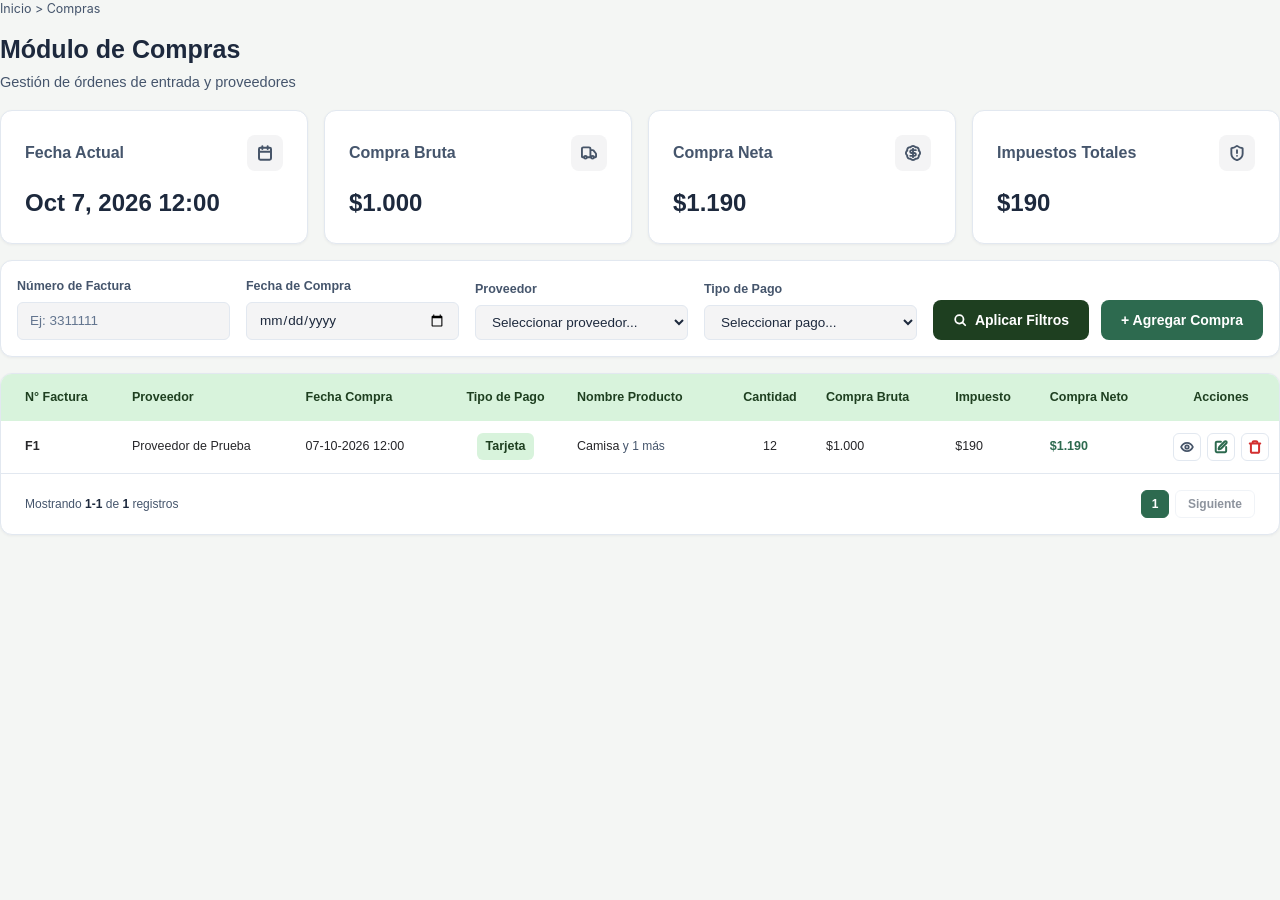
Scenario: abre el detalle de la compra con precio y subtotal por linea
Step 1. Click the button titled "Ver detalle" → click(1187, 447), box [1173,433,1201,461]
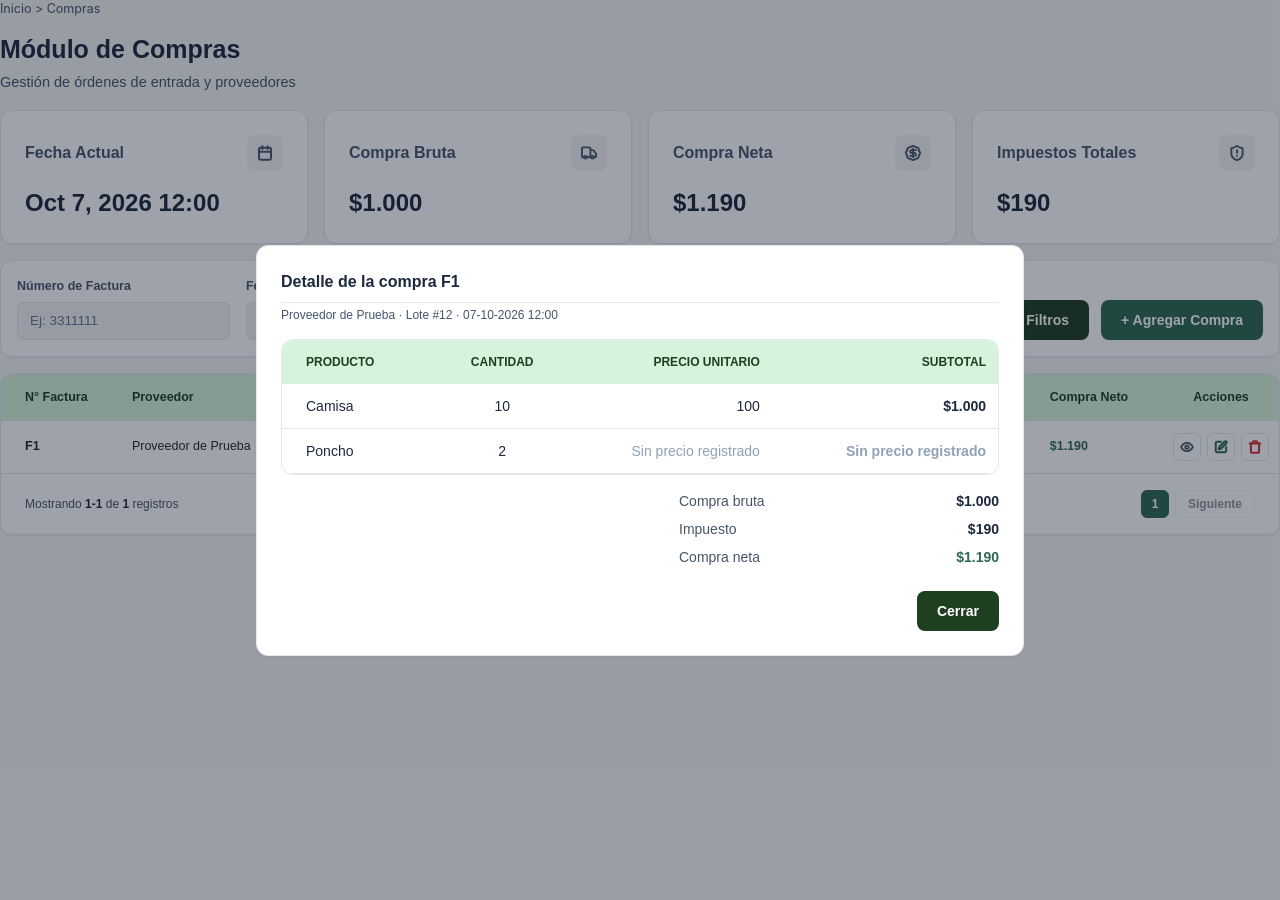
Result: the dialog shows "Camisa" at [306,398,354,414]
Result: the dialog shows "$1.000" at [943,398,986,414]
Result: the dialog shows "Sin precio registrado" at [632,442,760,458]
Step 2. Click the button "Cerrar" → click(958, 610), box [917,590,999,630]
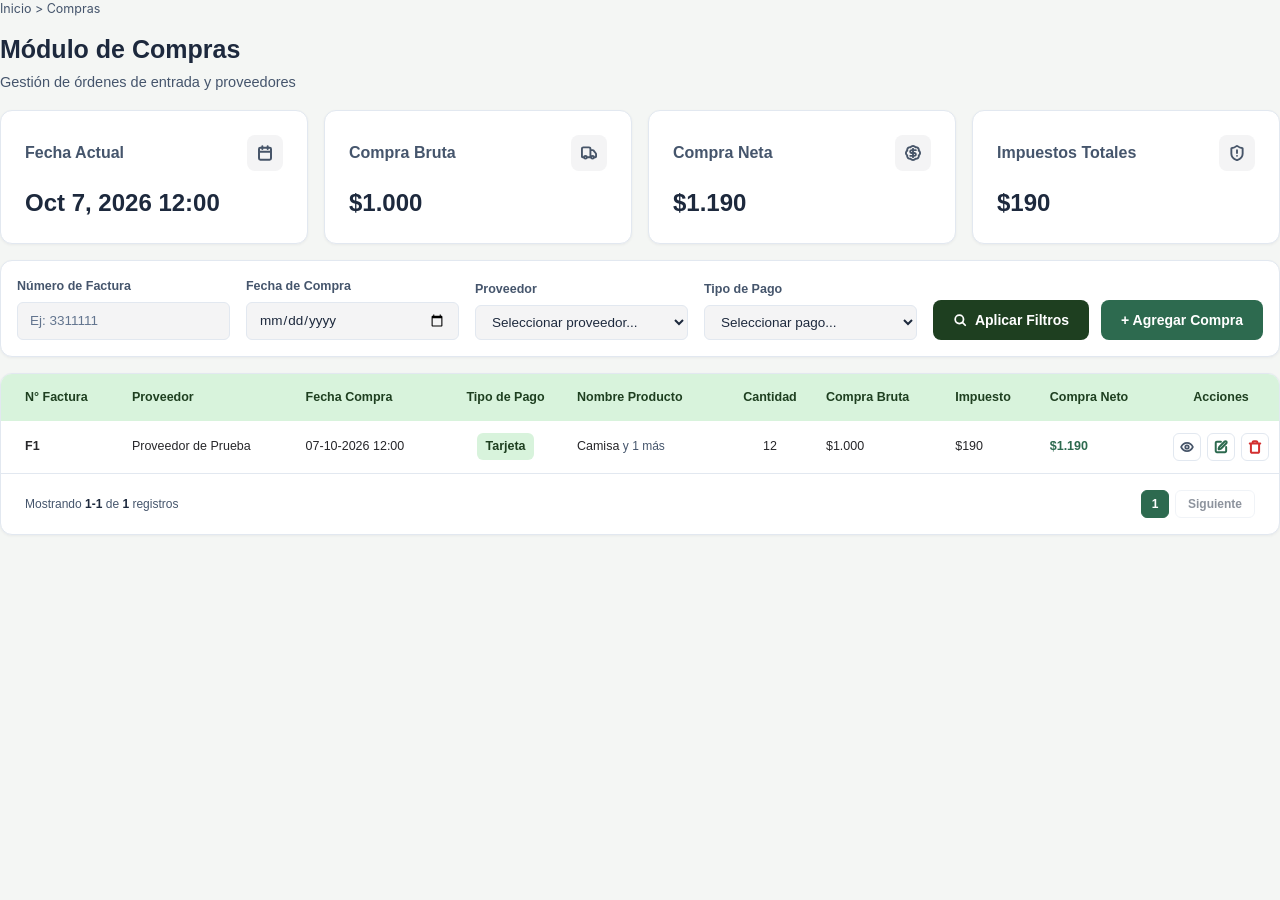
Result: the dialog is gone
